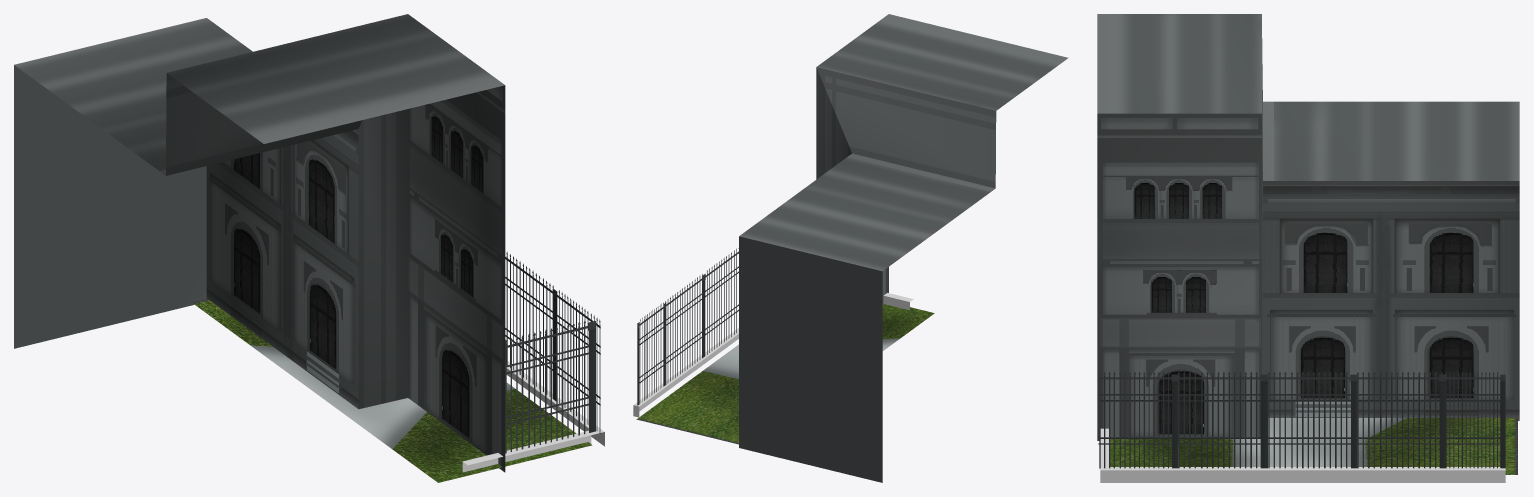
The model's file is edificio2.FBX.
3 views of the same model, side by side, from view 1: azimuth 30°, elevation 25°; view 2: azimuth 150°, elevation 25°; view 3: azimuth 270°, elevation 25° (orthographic). The views are drawn at different scales.
Visible parts, largest first — view 1: Box199, Plane027, Plane026, Box198; view 2: Box199, Plane027, Plane026, Box198; view 3: Box199, Plane026, Plane027, Box198.
Boxes of the visible parts, x1,y1,x2,y2 form: Box199: (14,14,505,472); Plane027: (192,299,592,482); Plane026: (505,251,600,453); Box198: (462,361,604,472); Box199: (739,14,1068,482); Plane027: (636,304,934,444); Plane026: (637,248,738,405); Box198: (633,293,913,417); Box199: (1097,14,1519,440); Plane026: (1098,372,1505,468); Plane027: (1110,418,1517,474); Box198: (1100,428,1505,482).
Bounding box in the file's own units: 590 × 637 × 744.
Materials: 3 (3 with a texture image).
